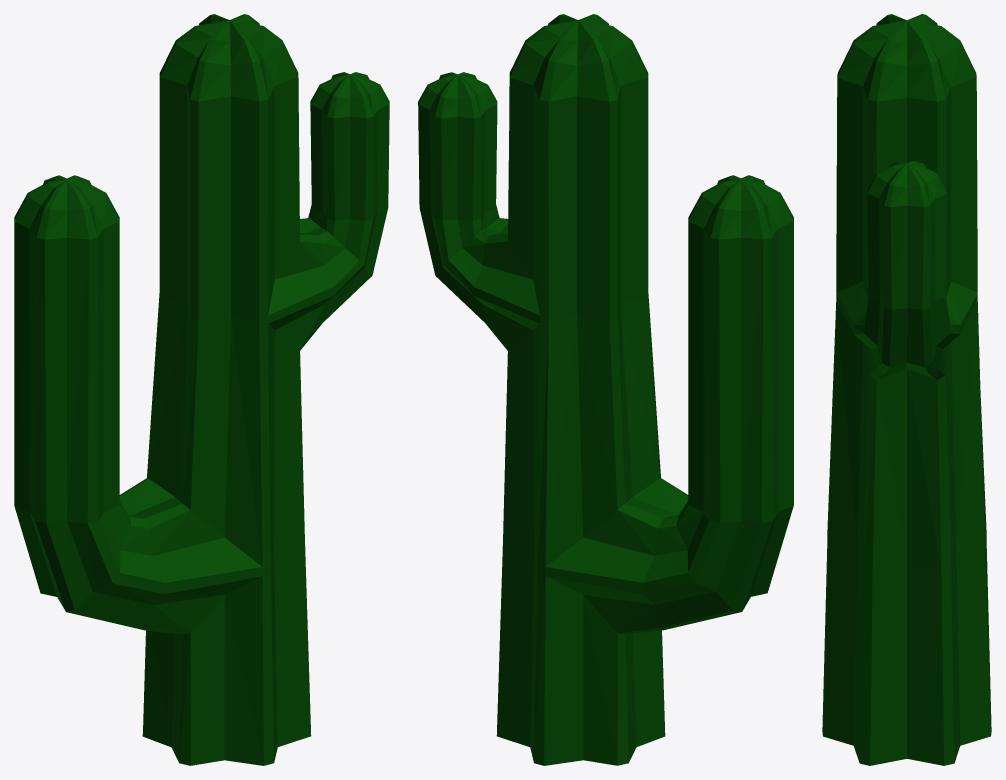
The model's file is Cactus01.fbx.
The picture shows the model from 3 angles, left to right: view 1: azimuth 30°, elevation 25°; view 2: azimuth 150°, elevation 25°; view 3: azimuth 270°, elevation 25°; orthographic projection.
Visible parts, largest first — view 1: Cactus01; view 2: Cactus01; view 3: Cactus01.
Part boxes in pixels (box(x1,y1,x2,y2)): Cactus01: box(14, 14, 389, 765); Cactus01: box(418, 14, 793, 765); Cactus01: box(822, 14, 991, 765).
Size of the model in its own units: 160 by 306 by 65.58.
